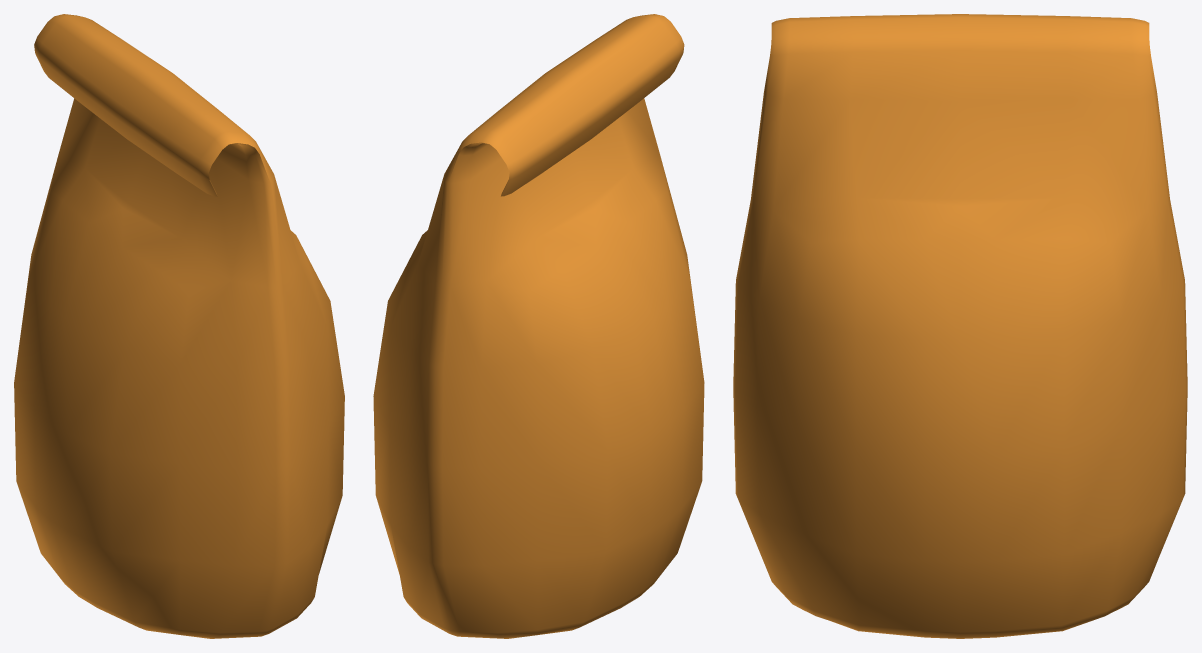
File: FertilizerBag.fbx
The picture shows the model from 3 angles, left to right: view 1: azimuth 30°, elevation 25°; view 2: azimuth 150°, elevation 25°; view 3: azimuth 270°, elevation 25°; orthographic projection. The views are drawn at different scales.
Parts seen in each view (by area): view 1: FertilizerBag; view 2: FertilizerBag; view 3: FertilizerBag.
Boxes of the visible parts, left/top/right/bottom form: FertilizerBag: left=14, top=14, right=344, bottom=638; FertilizerBag: left=373, top=14, right=704, bottom=638; FertilizerBag: left=733, top=14, right=1187, bottom=638.
Bounding box in the file's own units: 18.33 × 35.31 × 25.46.
